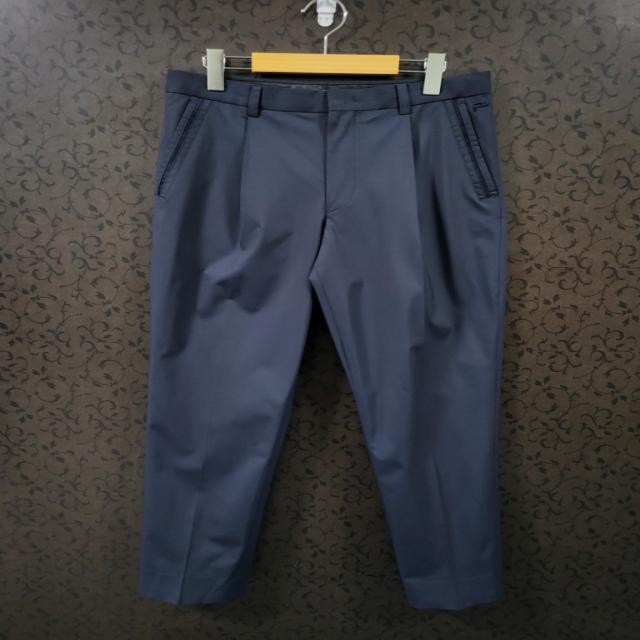long-pants: (135, 68, 512, 610)
